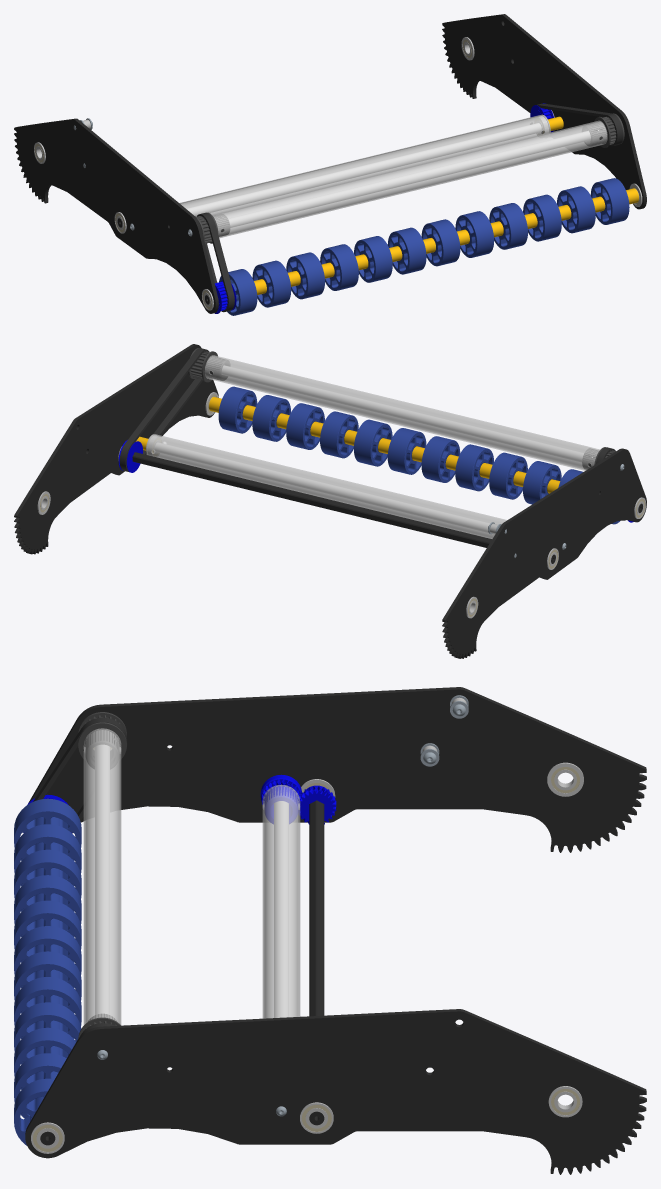
3 views of the same model, one above another, from view 1: azimuth 30°, elevation 25°; view 2: azimuth 150°, elevation 25°; view 3: azimuth 270°, elevation 25° (orthographic). The views are drawn at different scales.
Visible parts, largest first — view 1: 157-26-IN-P-1 (×2), 157-26-IN-P-30 (×2), 2.25" Compliant Wheel (50A, 1" Wide, 1/2" Hex Bore) (×12), 157-26-IN-P-15 (×2), TTB-R-001 (×2), 60t 5mm Belt, 100t 5mm Belt; view 2: 157-26-IN-P-1 (×2), 157-26-IN-P-30 (×2), 2.25" Compliant Wheel (50A, 1" Wide, 1/2" Hex Bore) (×10), 157-26-IN-P-15 (×2), 157-26-IN-P-29, 100t 5mm Belt, TTB-R-001; view 3: 157-26-IN-P-1 (×2), 157-26-IN-P-30 (×2), 2.25" Compliant Wheel (50A, 1" Wide, 1/2" Hex Bore) (×12), 157-26-IN-P-15 (×2), 157-26-IN-P-29, TTB-R-001, 1/2" Rounded Hex (13.75mm) ID Bearing (1.125" OD, 0.313" WD, (×2), 0.5" ID Bearing (1.125" OD, 0.313" WD, Shielded, Flanged) (×2), 157-26-IN-P-33, 60t 5mm Belt, 157-26-IN-P-35.
Part boxes in pixels (box(x1,y1,x2,y2)): 157-26-IN-P-1 (×2): box(14, 14, 646, 313); 157-26-IN-P-30 (×2): box(179, 114, 607, 238); 2.25" Compliant Wheel (50A, 1" Wide, 1/2" Hex Bore) (×12): box(219, 178, 629, 315); 157-26-IN-P-15 (×2): box(187, 123, 598, 227); TTB-R-001 (×2): box(195, 113, 624, 243); 60t 5mm Belt: box(197, 212, 234, 312); 100t 5mm Belt: box(536, 103, 623, 146); 157-26-IN-P-1 (×2): box(14, 344, 646, 658); 157-26-IN-P-30 (×2): box(146, 355, 600, 538); 2.25" Compliant Wheel (50A, 1" Wide, 1/2" Hex Bore) (×10): box(218, 386, 561, 504); 157-26-IN-P-15 (×2): box(155, 365, 592, 534); 157-26-IN-P-29: box(132, 452, 555, 563); 100t 5mm Belt: box(119, 348, 209, 472); TTB-R-001: box(188, 348, 230, 382); 157-26-IN-P-1 (×2): box(25, 687, 646, 1174); 157-26-IN-P-30 (×2): box(83, 728, 300, 1025); 2.25" Compliant Wheel (50A, 1" Wide, 1/2" Hex Bore) (×12): box(14, 798, 81, 1145); 157-26-IN-P-15 (×2): box(95, 745, 288, 1017); 157-26-IN-P-29: box(309, 800, 324, 1125); TTB-R-001: box(78, 712, 126, 769); 1/2" Rounded Hex (13.75mm) ID Bearing (1.125" OD, 0.313" WD, (×2): box(547, 762, 583, 1117); 0.5" ID Bearing (1.125" OD, 0.313" WD, Shielded, Flanged) (×2): box(31, 1102, 333, 1153); 157-26-IN-P-33: box(260, 774, 301, 823); 60t 5mm Belt: box(33, 717, 127, 833); 157-26-IN-P-35: box(298, 785, 336, 824).
Bounding box in the file's own units: 0.6528 × 0.1522 × 0.5342.
